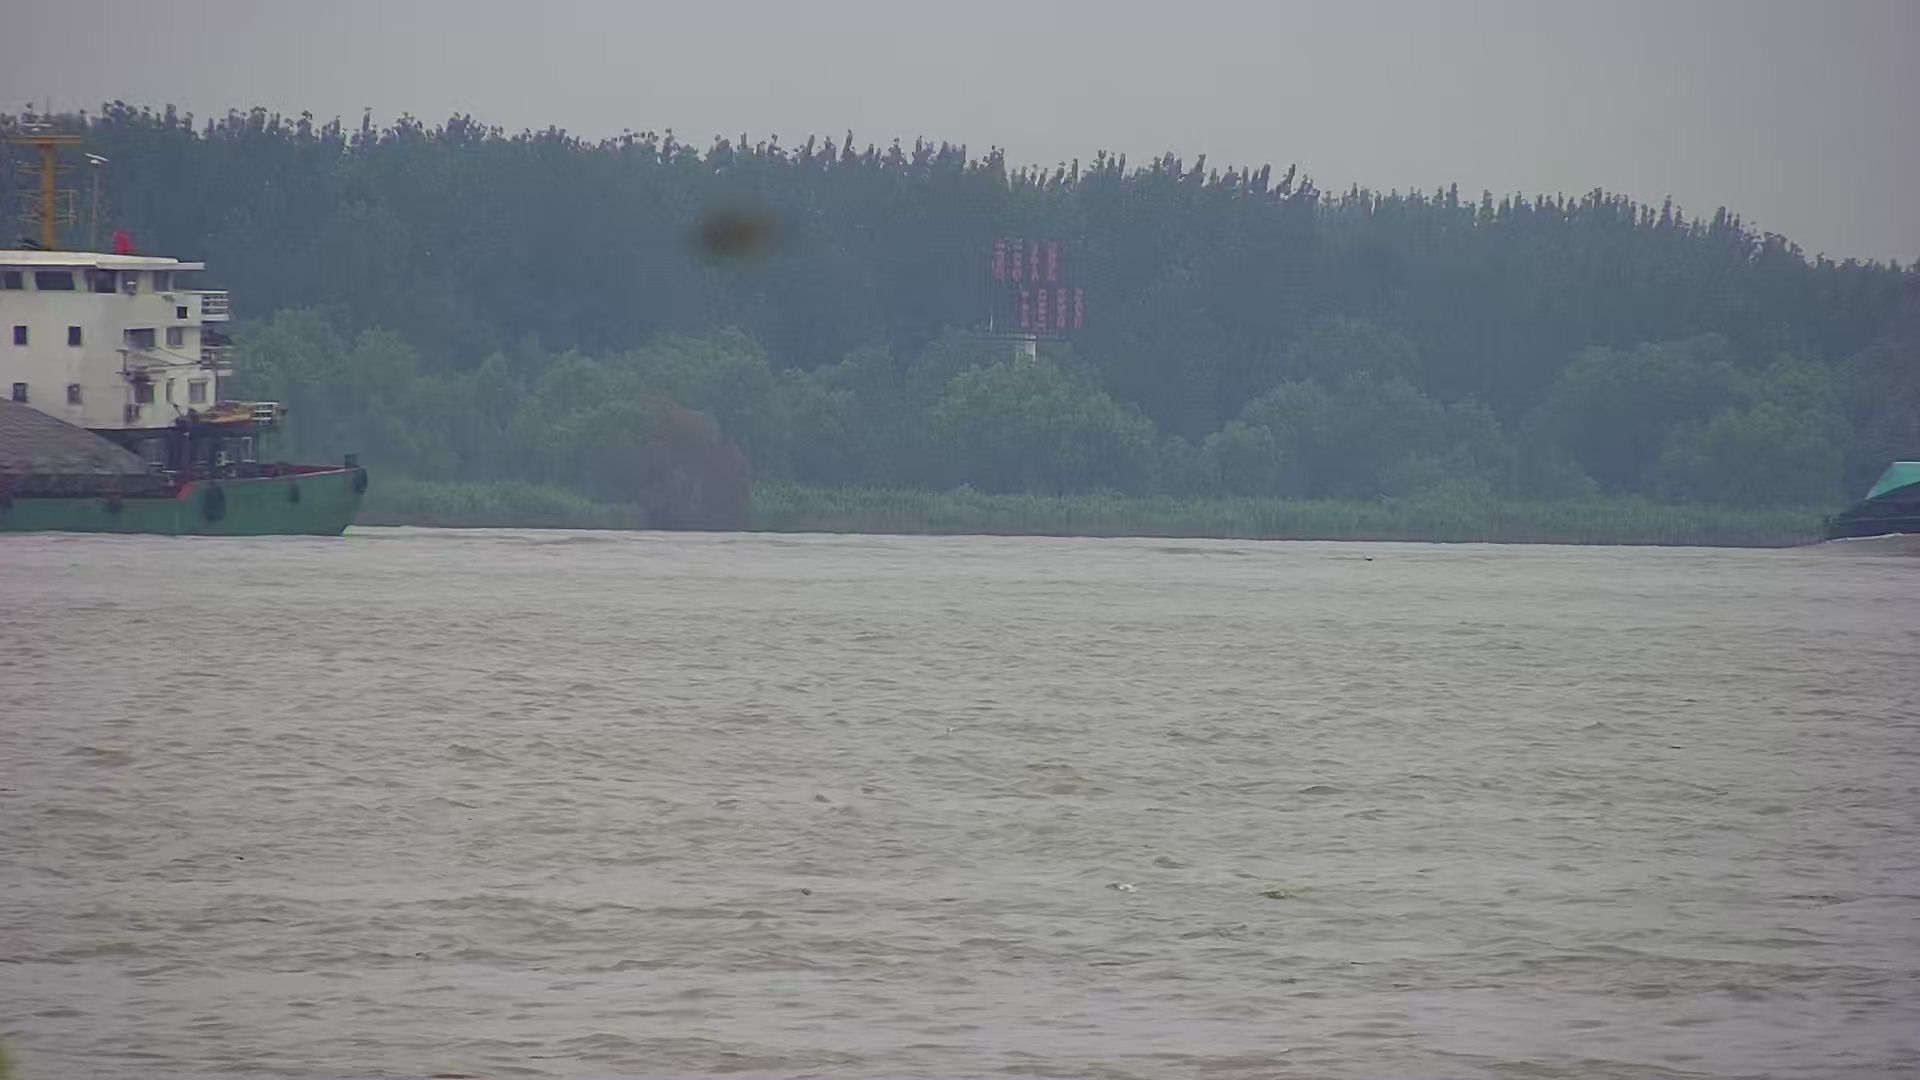ship: (1, 111, 376, 553)
